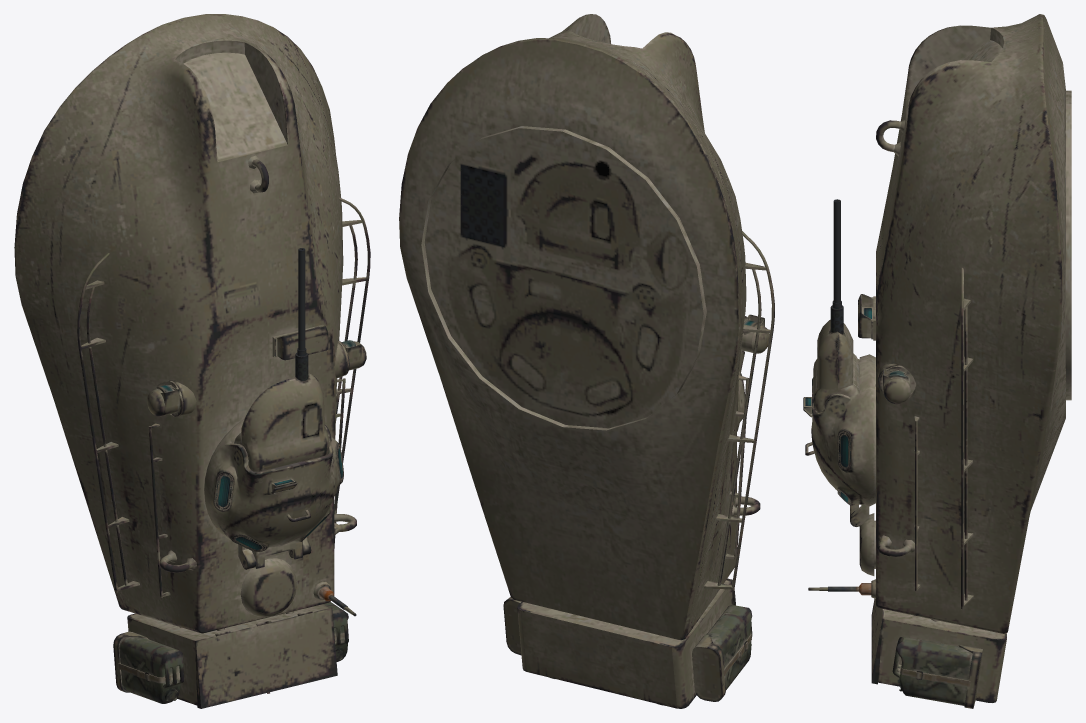
Rendered from Turret_02.glb.
3 views of the same model, side by side, from view 1: azimuth 30°, elevation 25°; view 2: azimuth 150°, elevation 25°; view 3: azimuth 270°, elevation 25° (orthographic). The views are drawn at different scales.
Visible parts, largest first — view 1: set_0_group_0; view 2: set_0_group_0; view 3: set_0_group_0.
Boxes of the visible parts, left/top/right/bottom form: set_0_group_0: left=14, top=14, right=370, bottom=708; set_0_group_0: left=399, top=14, right=774, bottom=708; set_0_group_0: left=803, top=14, right=1071, bottom=708.
Bounding box in the file's own units: 2.34 × 4.4 × 1.68.
1 material, 1 textured.
